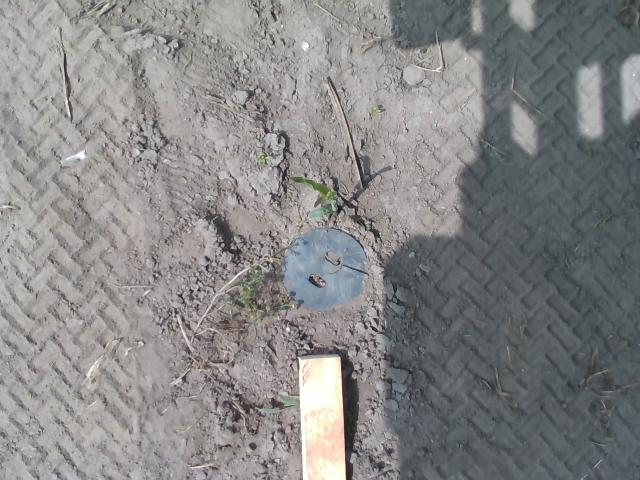Maize: (287, 172, 341, 220)
Weeds: (223, 250, 290, 328), (258, 392, 298, 412), (255, 150, 271, 165), (368, 106, 382, 116), (223, 340, 231, 346)
